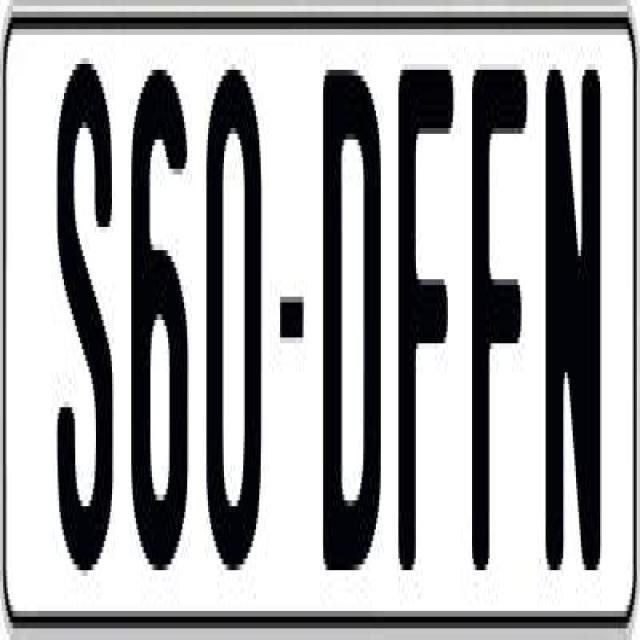0: (206, 70, 268, 576)
6: (128, 58, 189, 576)
D: (320, 58, 381, 576)
F: (395, 70, 458, 576), (471, 52, 526, 576)
N: (542, 64, 600, 594)
S: (54, 52, 114, 582)
